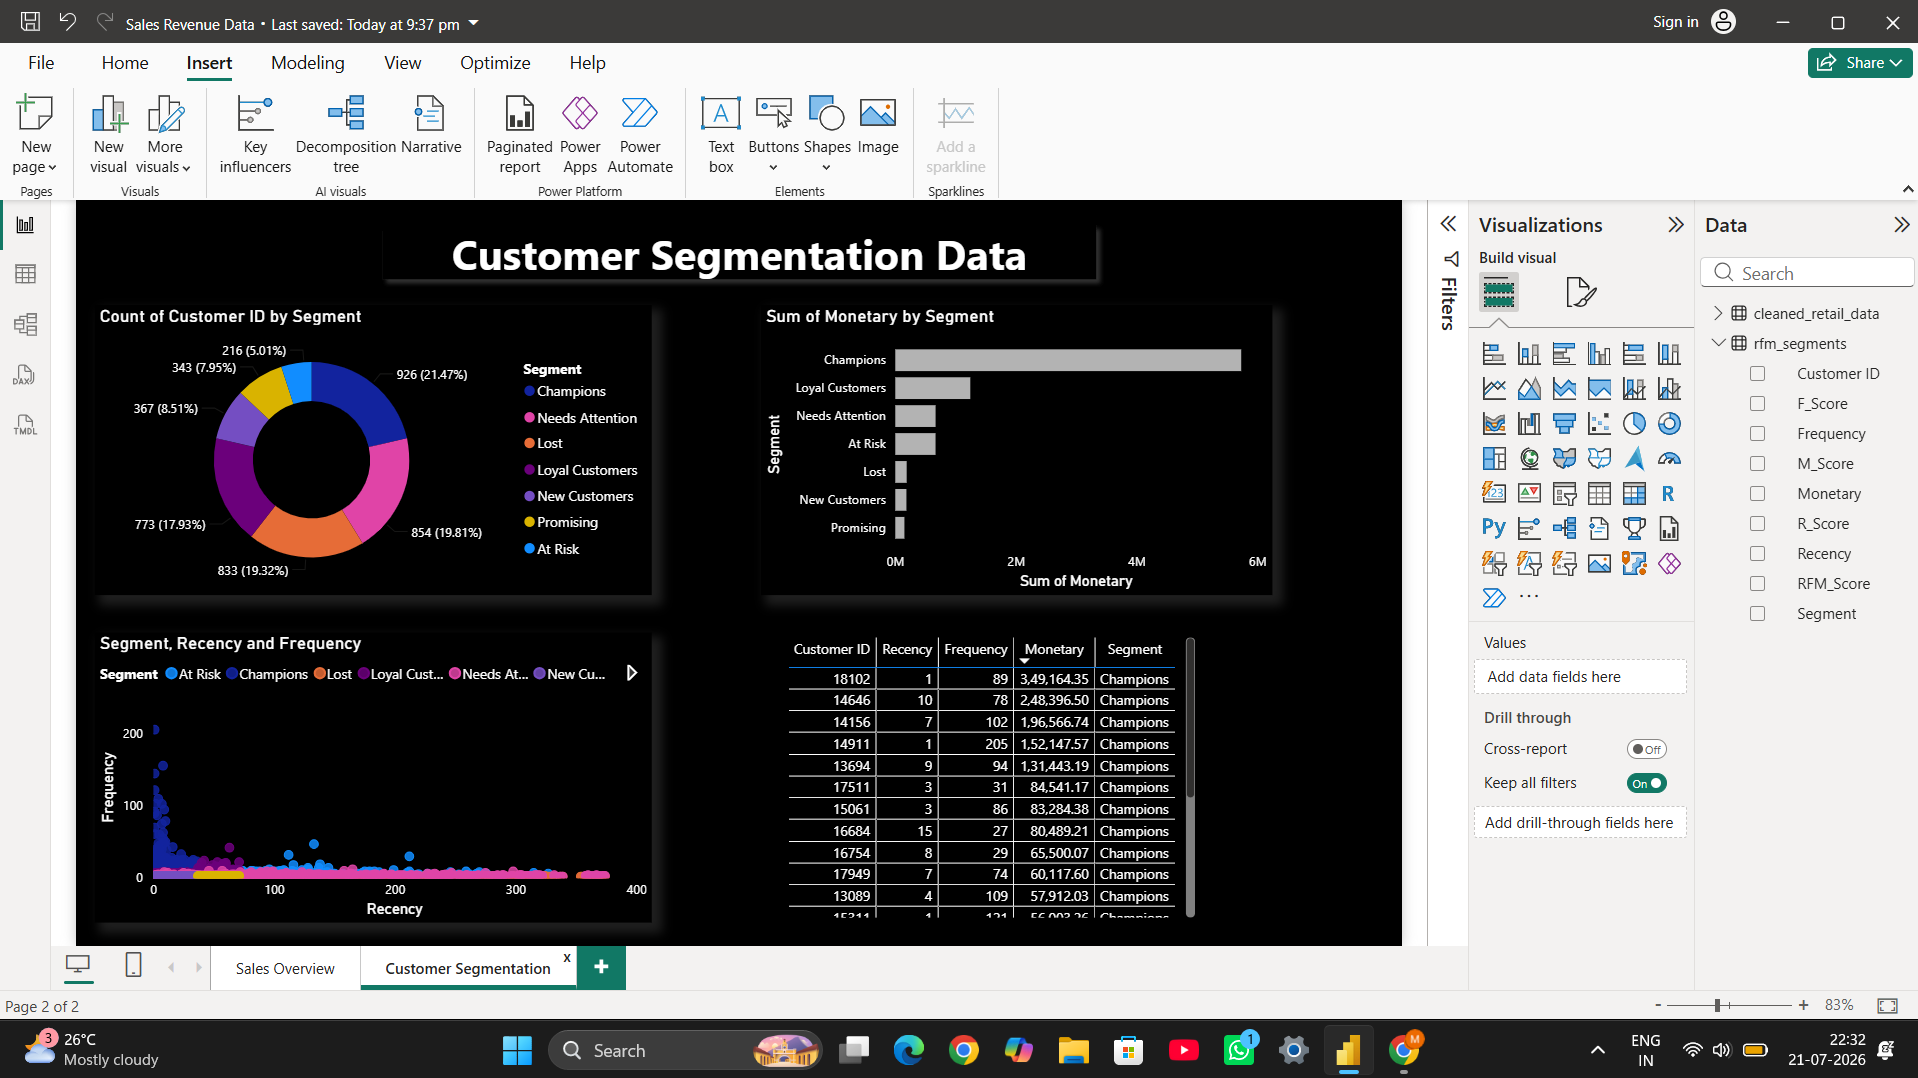

The dashboard page shown, as its layout file describes it:
{"tool":"powerbi","page":{"name":"Customer Segmentation","canvas":[1280,720],"ordinal":1},"visuals":[{"type":"donutChart","fields":{"Category":["rfm_segments.Segment"],"Y":["CountNonNull(rfm_segments.Customer ID)"]},"box":[17.8,101.5,537.9,279.9],"z":0},{"type":"clusteredBarChart","fields":{"Category":["rfm_segments.Segment"],"Y":["Sum(rfm_segments.Monetary)"]},"box":[661.1,101.3,493.4,279.9],"z":1},{"type":"scatterChart","fields":{"X":["rfm_segments.Recency"],"Y":["rfm_segments.Frequency"],"Series":["rfm_segments.Segment"]},"box":[17.8,417.2,537.9,279.9],"z":2},{"type":"tableEx","fields":{"Values":["rfm_segments.Customer ID","rfm_segments.Recency","rfm_segments.Frequency","rfm_segments.Monetary","rfm_segments.Segment"]},"box":[682,417.2,403.4,279.9],"z":3},{"type":"shape","box":[286.8,15.1,706.7,70],"z":4}]}

Visuals, with their boxes on the page's 1280x720 design canvas (x1, y1, x2, y2). These are canvas units, not pixel positions in the 1918x1078 screenshot, which may show the page scaled, cropped or inside an application window:
donutChart - rfm_segments.Segment x CountNonNull(rfm_segments.Customer ID): [18, 102, 556, 381]
clusteredBarChart - rfm_segments.Segment x Sum(rfm_segments.Monetary): [661, 101, 1154, 381]
scatterChart - rfm_segments.Recency x rfm_segments.Frequency: [18, 417, 556, 697]
tableEx - rfm_segments.Customer ID x rfm_segments.Recency: [682, 417, 1085, 697]
shape: [287, 15, 994, 85]
